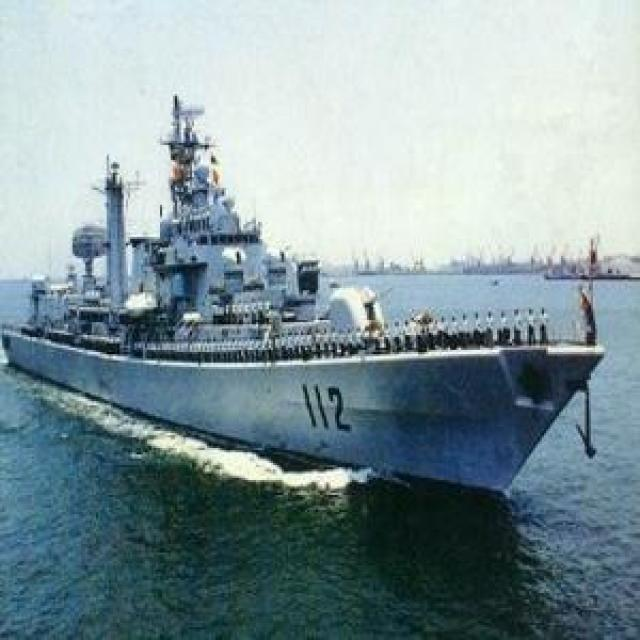navalvessels: (12, 111, 609, 512)
